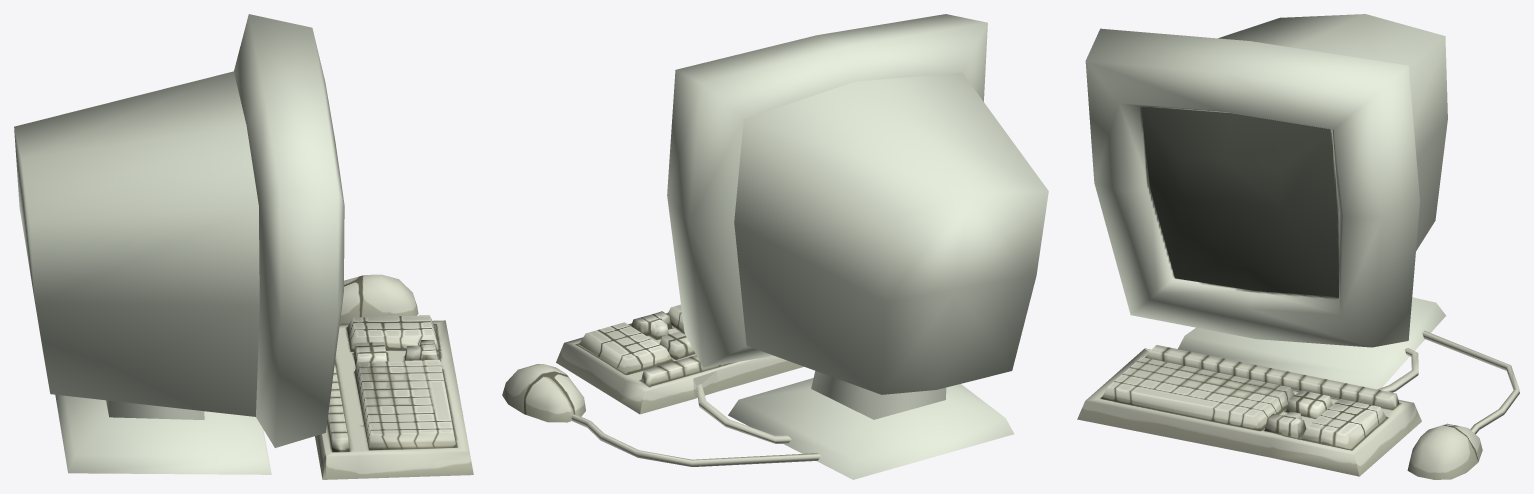
File: TherapyPC.fbx
3 renders of one model, left to right at view 1: azimuth 30°, elevation 25°; view 2: azimuth 150°, elevation 25°; view 3: azimuth 270°, elevation 25°, orthographic. The views are drawn at different scales.
Parts seen in each view (by area): view 1: polySurface33; view 2: polySurface33; view 3: polySurface33.
Boxes of the visible parts, x1=… form: polySurface33: x1=14, y1=14, x2=473, y2=479; polySurface33: x1=502, y1=14, x2=1048, y2=479; polySurface33: x1=1077, y1=14, x2=1519, y2=479.
Size of the model in its own units: 354 by 251 by 304.
